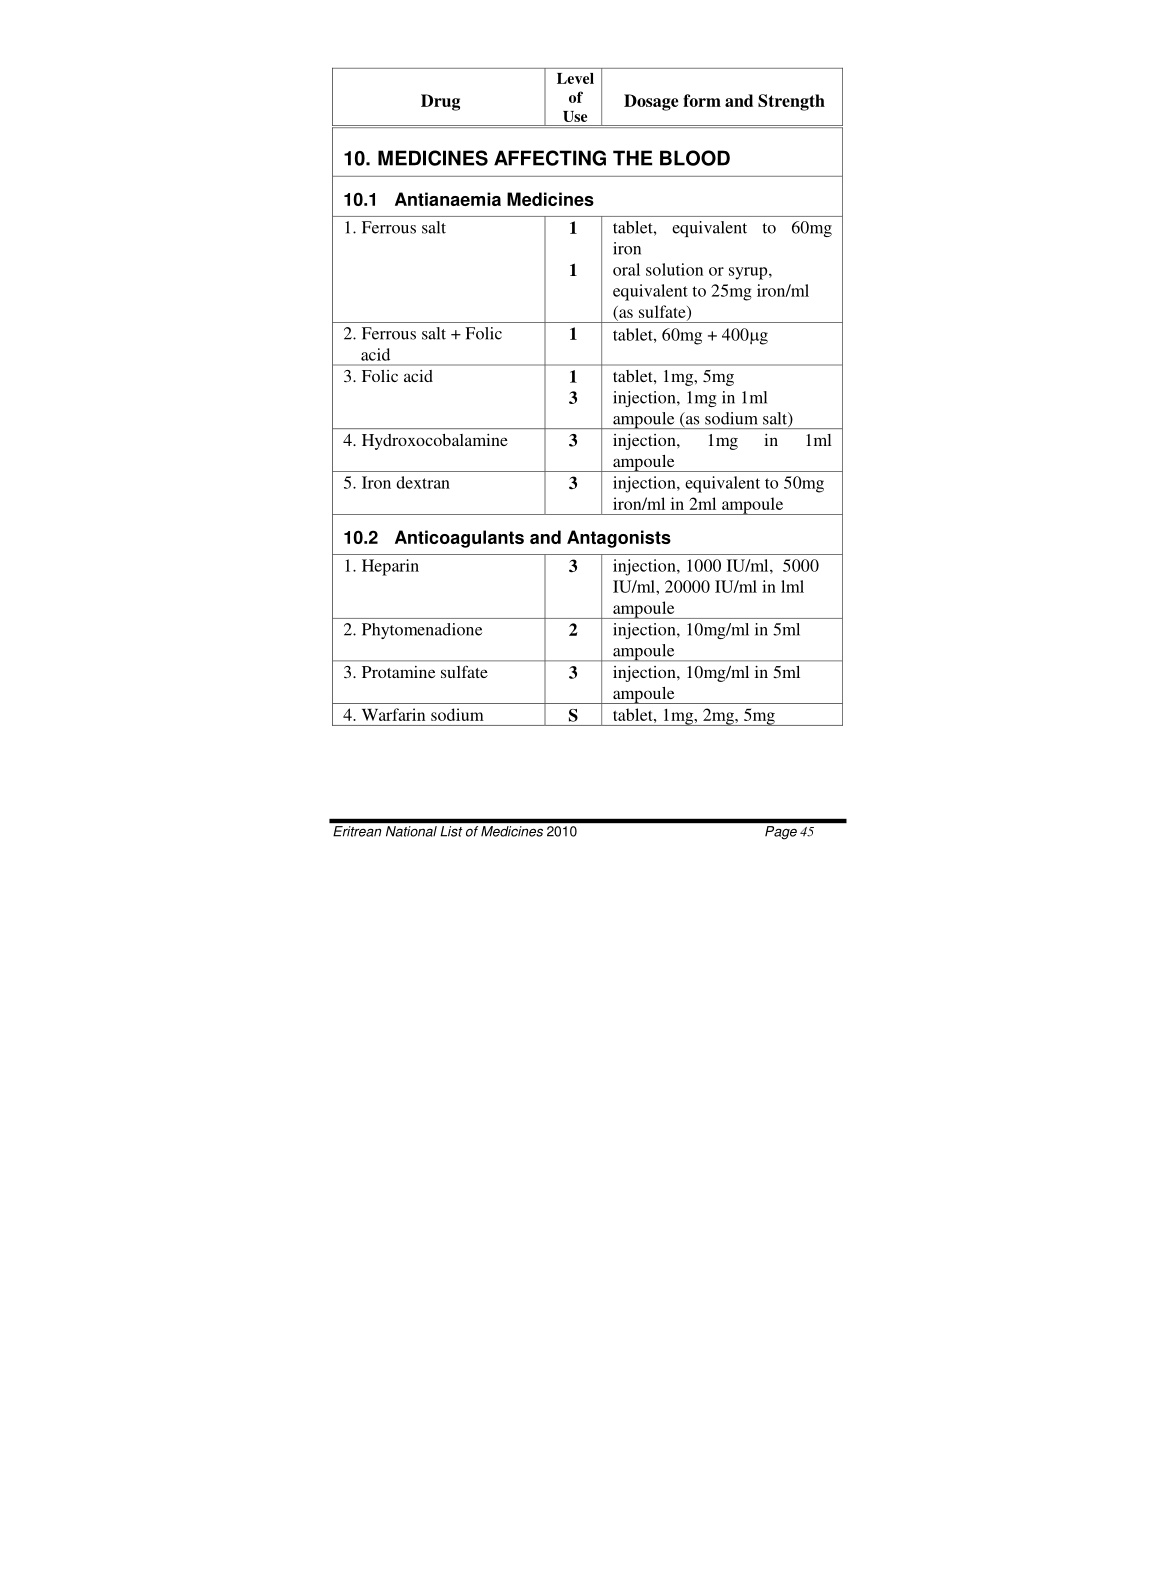merged_cells: (331, 65, 842, 727)
